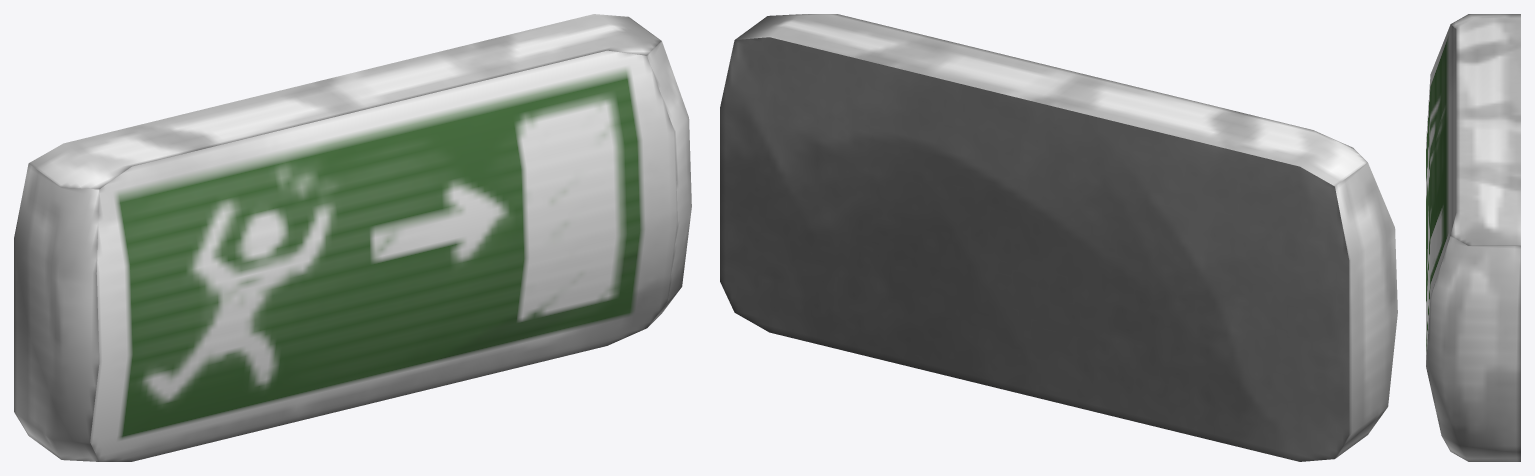
Rendered from ExitLight_Asset.fbx.
3 renders of one model, left to right at view 1: azimuth 30°, elevation 25°; view 2: azimuth 150°, elevation 25°; view 3: azimuth 270°, elevation 25°, orthographic. The views are drawn at different scales.
Visible parts, largest first — view 1: ExitLight; view 2: ExitLight; view 3: ExitLight.
Boxes of the visible parts, left/top/right/bottom form: ExitLight: left=14, top=14, right=691, bottom=461; ExitLight: left=720, top=14, right=1397, bottom=461; ExitLight: left=1426, top=14, right=1520, bottom=461.
Bounding box in the file's own units: 41.24 × 6.8 × 18.49.
Materials: 1 (1 with a texture image).
